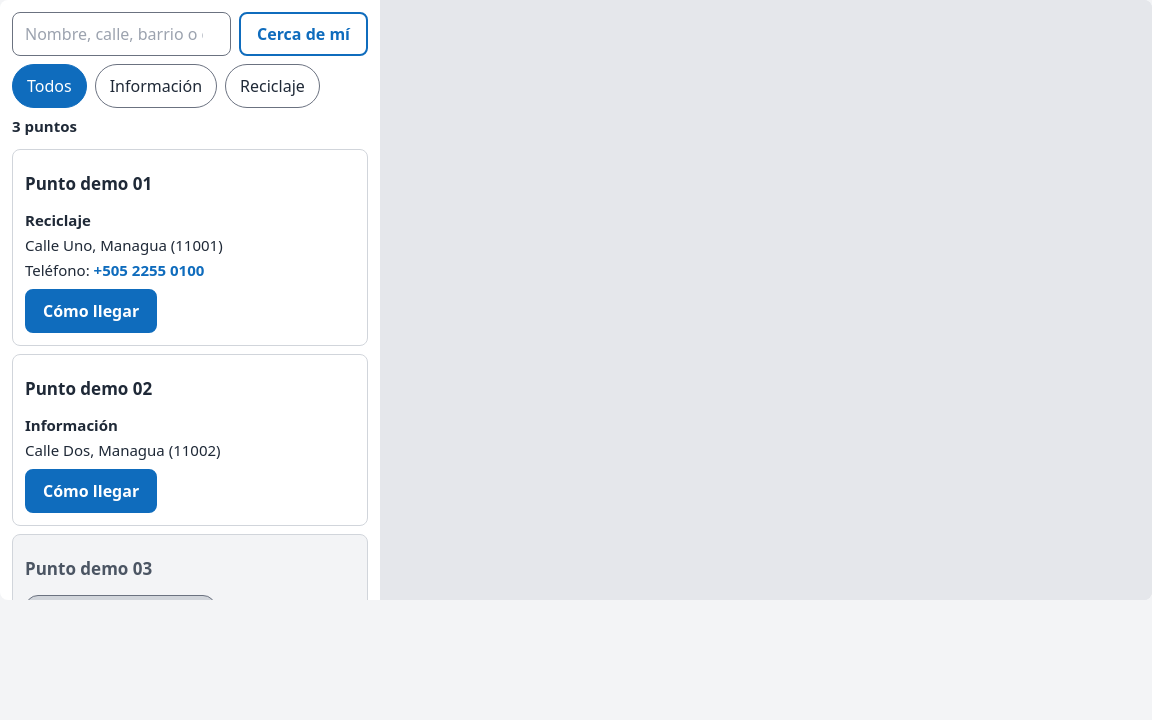
BuscadorPuntos (sin mapa) › «Cerca de mí» ordena por distancia a la ubicación del usuario
expect the button "Punto demo 01" is shown: met, box top-left (25, 162), bottom-right (355, 206)
Click the button "Cerca de mí": (304, 34) top-left (239, 12), bottom-right (368, 56)
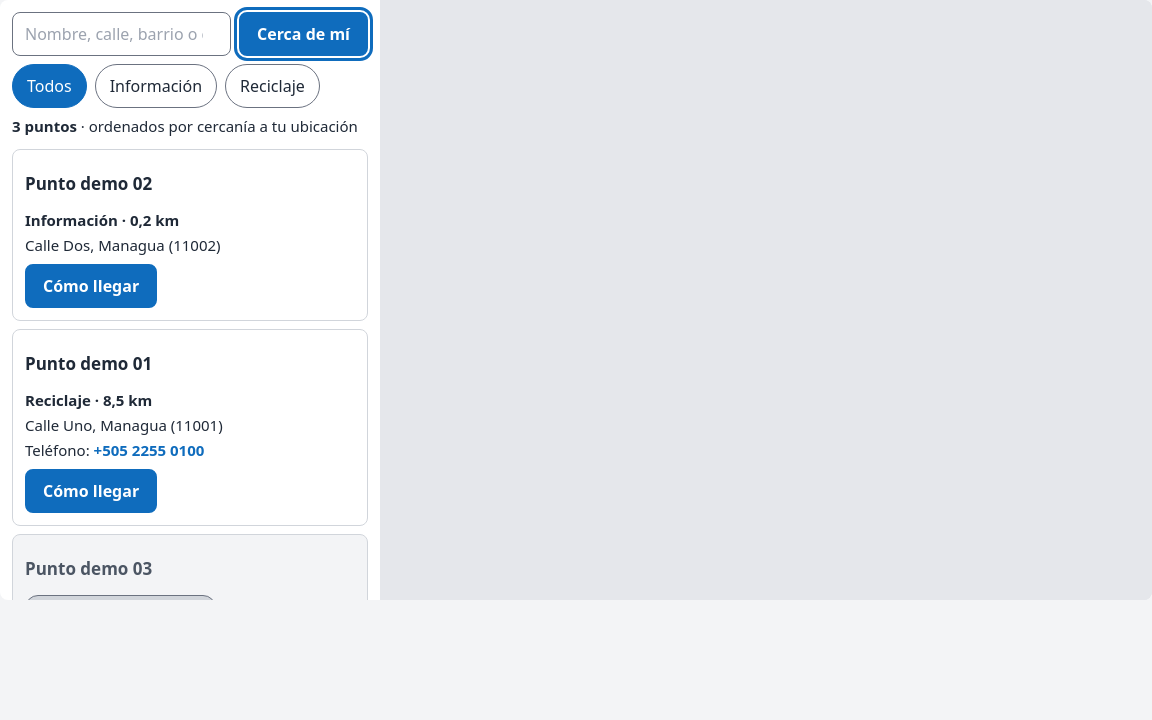
expect the button "Punto demo 02" is shown: met, box top-left (25, 162), bottom-right (355, 206)
expect the text "3 puntos · ordenados por cercanía a tu ubicación" is shown: met, box top-left (12, 116), bottom-right (368, 137)
